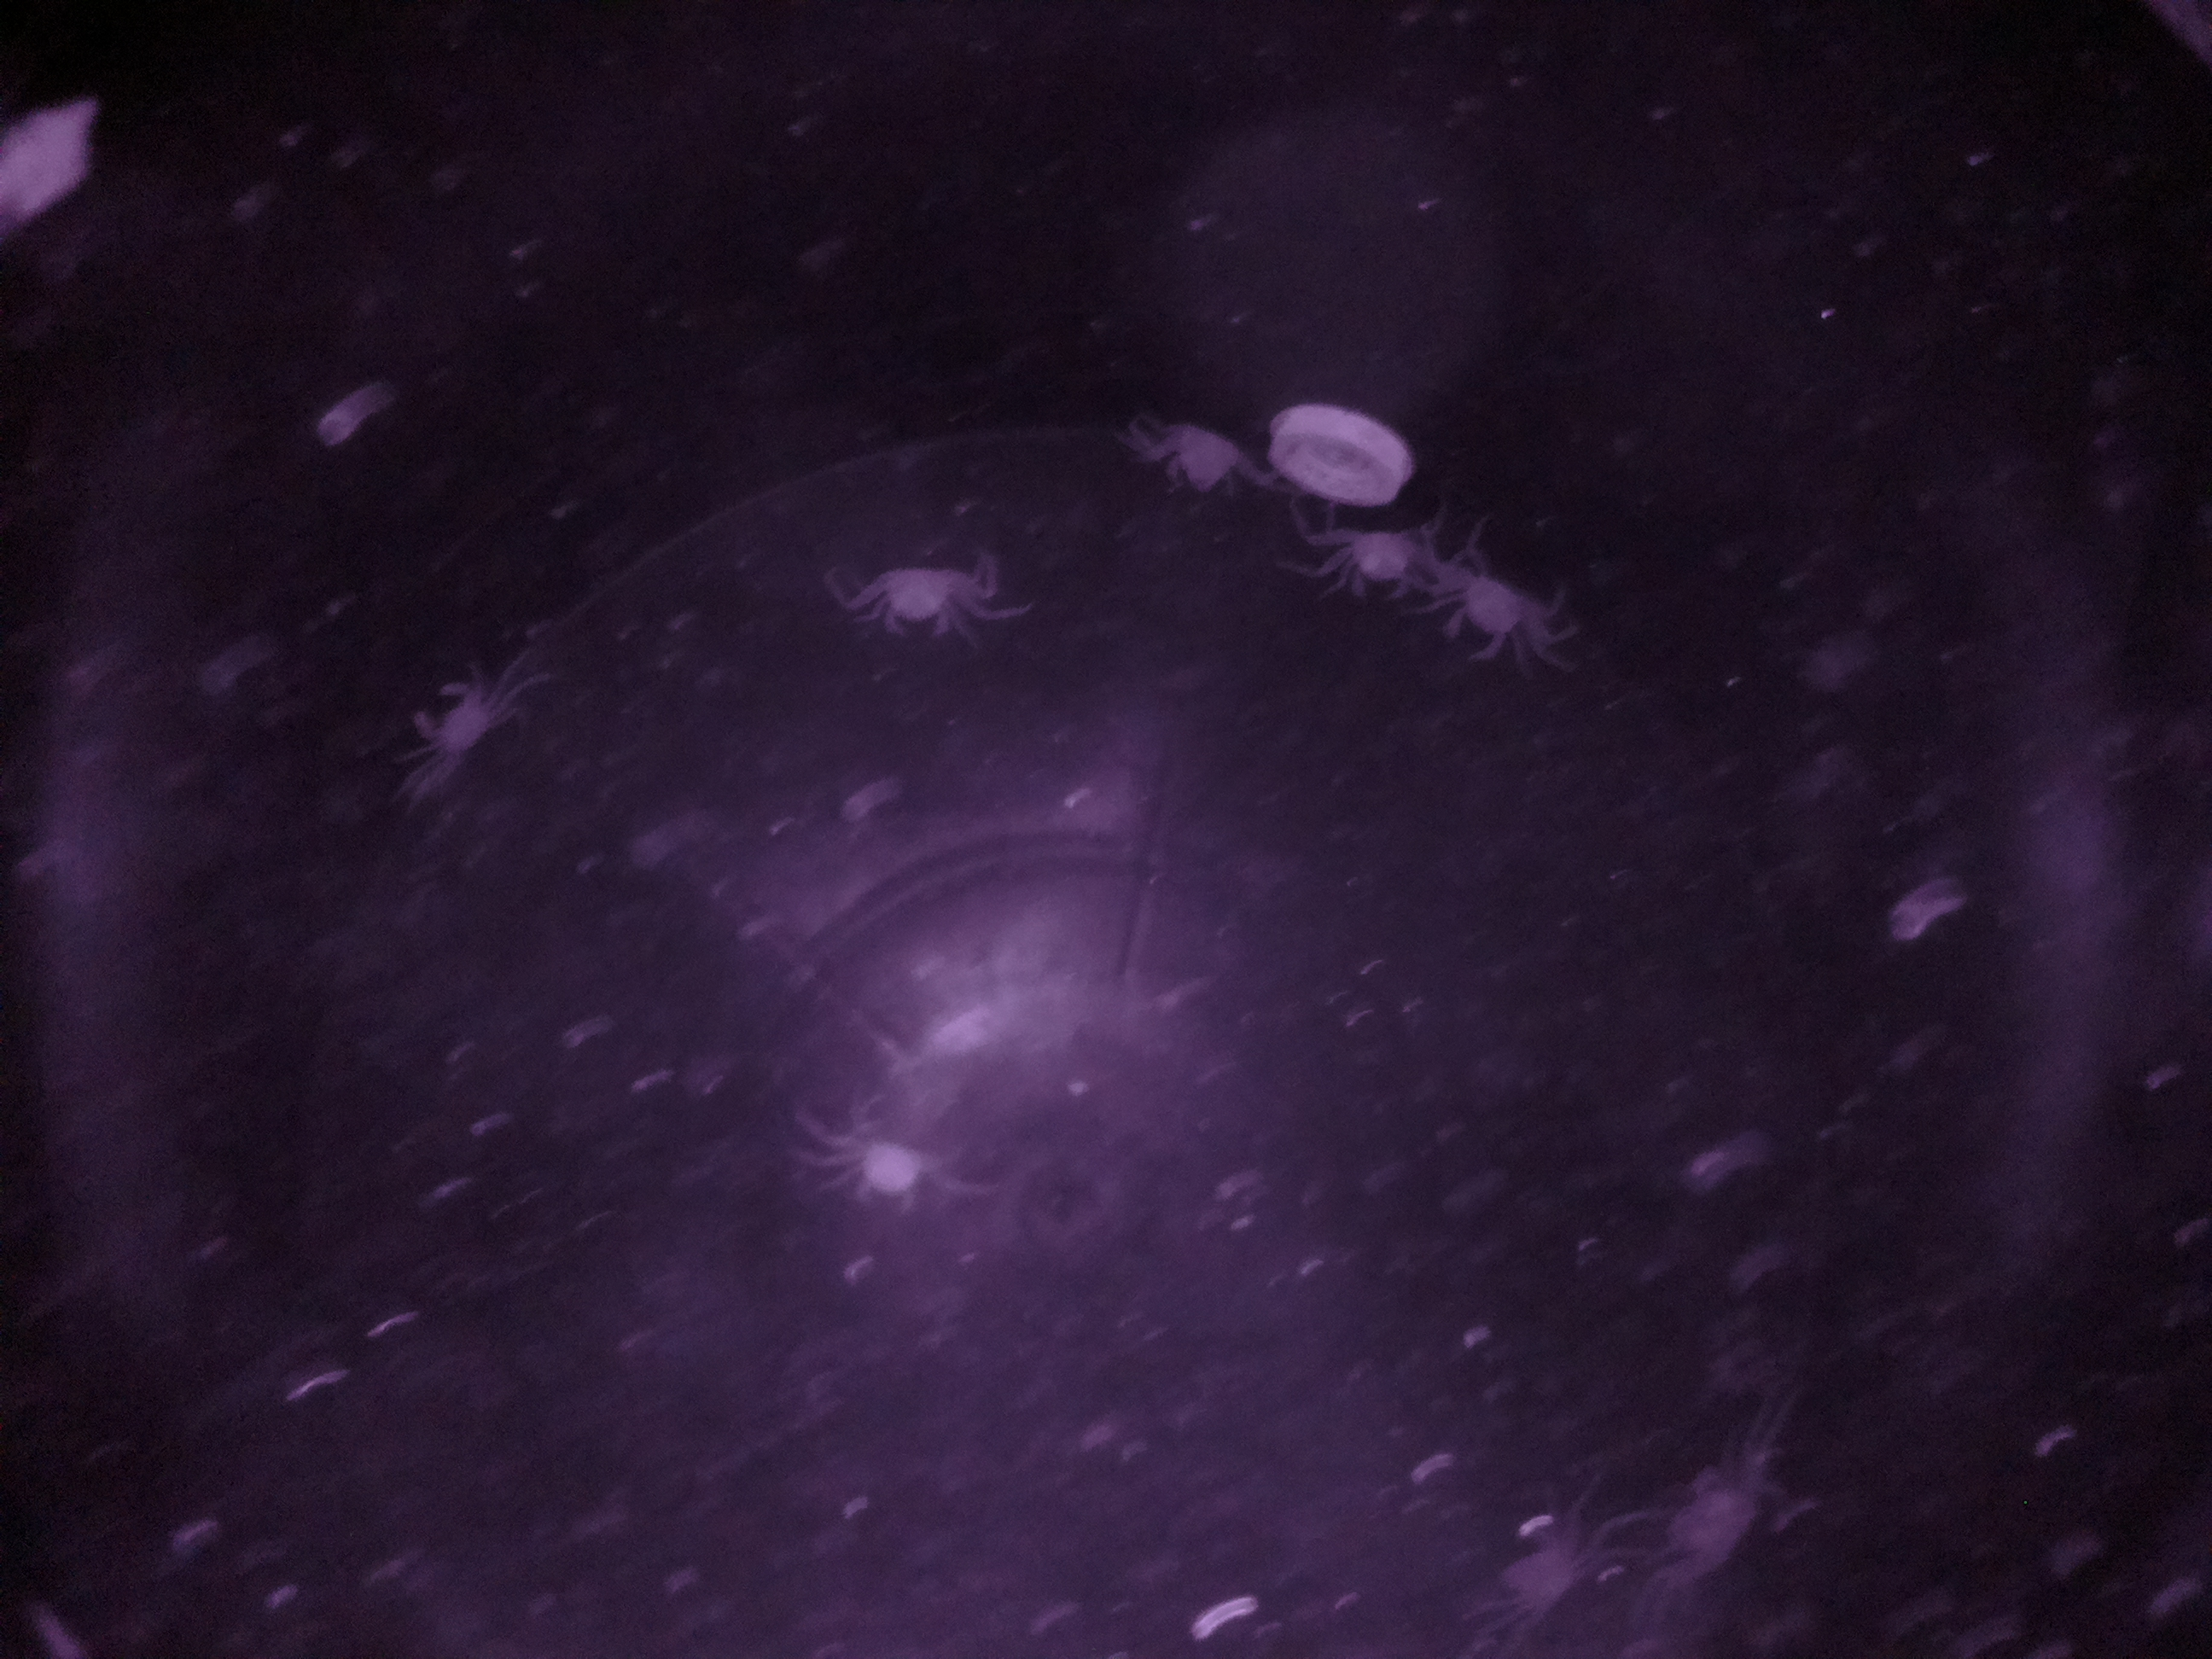Crab: (866, 537, 970, 653), (1332, 498, 1435, 615), (402, 666, 509, 774), (1435, 552, 1529, 674)
